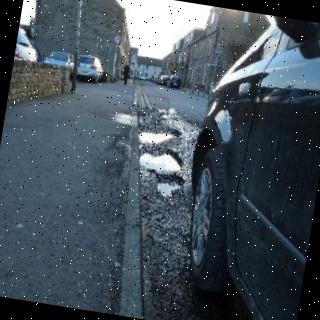pothole: (139, 152, 183, 171), (138, 130, 181, 145), (157, 174, 185, 195)
